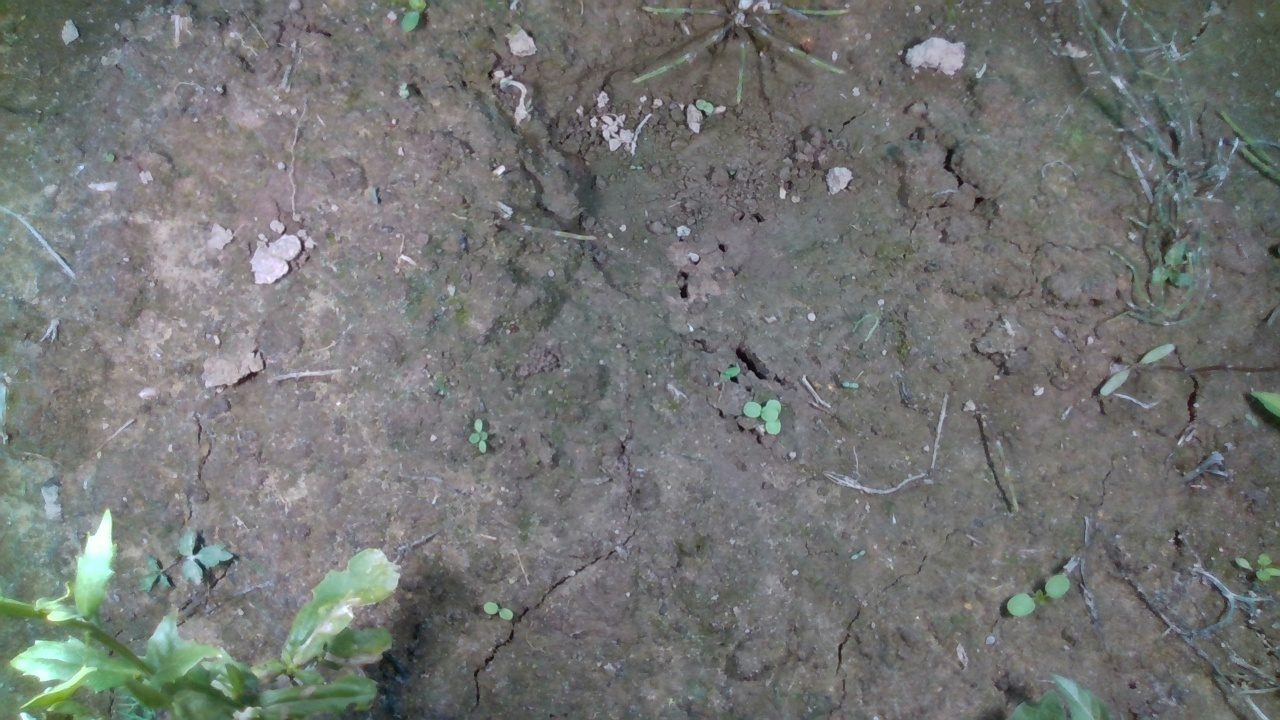weed: (1096, 341, 1178, 398), (1008, 570, 1073, 618), (468, 416, 503, 452), (483, 600, 514, 620)
